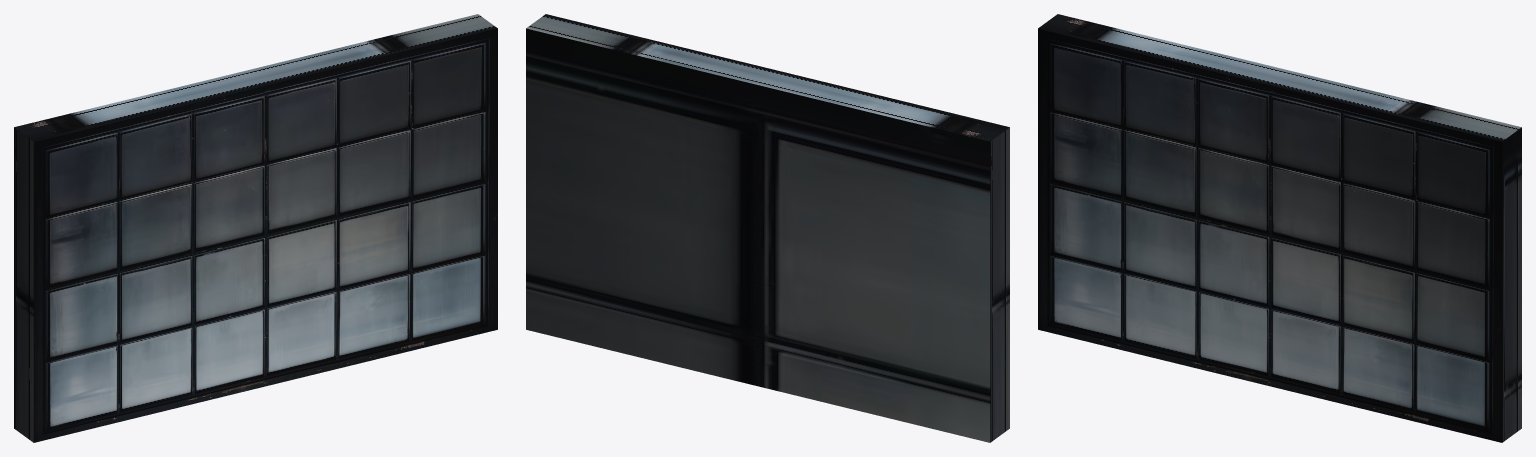
File: window.fbx
3 views of the same model, side by side, from view 1: azimuth 30°, elevation 25°; view 2: azimuth 150°, elevation 25°; view 3: azimuth 330°, elevation 25° (orthographic).
Parts seen in each view (by area): view 1: Cube; view 2: Cube; view 3: Cube.
Part boxes in pixels (left/top/right/bottom): Cube: left=14, top=14, right=497, bottom=442; Cube: left=526, top=14, right=1009, bottom=442; Cube: left=1038, top=14, right=1521, bottom=442.
Size of the model in its own units: 646 by 400 by 47.59.
